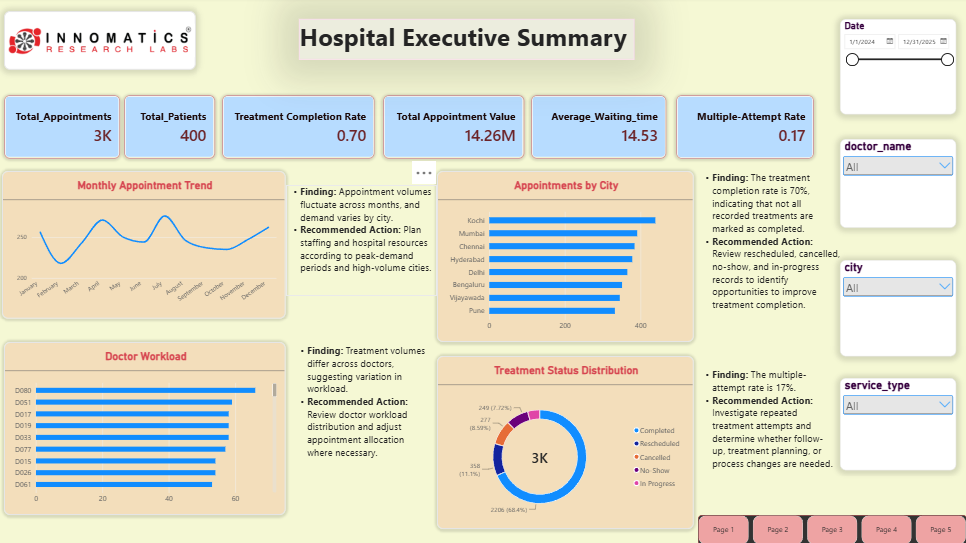

What the dashboard file says about the page in this screenshot:
{"tool":"powerbi","page":{"name":"Page 6","canvas":[1920,1080],"ordinal":5},"visuals":[{"type":"cardVisual","fields":{"Data":["treatments.Total_Appointments"]},"box":[20.6,194.1,229.3,126],"z":0},{"type":"cardVisual","fields":{"Data":["treatments.Total_Patients"]},"box":[256,194.1,179.6,125.9],"z":1000},{"type":"cardVisual","fields":{"Data":["treatments.Treatment Completion Rate"]},"box":[450.1,194.1,301.4,125.9],"z":2000},{"type":"cardVisual","fields":{"Data":["treatments.Total Appointment Value"]},"box":[765.9,194.1,278.7,125.9],"z":3000},{"type":"cardVisual","fields":{"Data":["appointments.Average_Waiting_time"]},"box":[1058.3,194,267.1,126],"z":4000},{"type":"cardVisual","fields":{"Data":["treatments.Multiple-Attempt Rate"]},"box":[1344,194,272,126],"z":5000},{"type":"lineChart","title":"Monthly Appointment Trend","fields":{"Category":["date_table.Date.Variation.Date Hierarchy.Month","date_table.Date.Variation.Date Hierarchy.Day"],"Y":["treatments.Total_Appointments"]},"box":[16.5,342.7,559.5,291.1],"z":6000},{"type":"clusteredBarChart","title":"Appointments by City","fields":{"Category":["patients.city"],"Y":["treatments.Total_Appointments"]},"box":[873.3,342.7,505.8,336.5],"z":7000},{"type":"barChart","title":"Doctor Workload","fields":{"Category":["doctors.doctor_id"],"Y":["treatments.Total_Treatments"]},"box":[20.6,679.2,555.4,340.6],"z":8000},{"type":"donutChart","title":"Treatment Status Distribution","fields":{"Category":["treatments.status"],"Y":["treatments.Total_Appointments"]},"box":[873.3,708.1,505.8,340.6],"z":9000},{"type":"slicer","fields":{"Values":["date_table.Date"]},"box":[1668.1,43.4,229.2,187.9],"z":10000},{"type":"slicer","fields":{"Values":["patients.city"]},"box":[1668.1,518.2,229.2,189.9],"z":11000},{"type":"textbox","box":[600.8,43.4,660.5,79.6],"z":12000},{"type":"slicer","fields":{"Values":["appointments.service_type"]},"box":[1668.1,751.5,229.2,181.7],"z":13000},{"type":"slicer","fields":{"Values":["doctors.doctor_name"]},"box":[1668.1,280.8,229.2,175.5],"z":14000},{"type":"image","box":[20.6,26.8,377.8,115.6],"z":15000},{"type":"textbox","box":[576,369.5,297.3,218.8],"z":16000},{"type":"textbox","box":[1387.4,342.7,280.8,336.5],"z":17000},{"type":"textbox","box":[450,0,151,150],"z":18000},{"type":"textbox","box":[588.4,683.4,272.5,336.5],"z":19000},{"type":"textbox","box":[1387.4,730.8,266.3,317.9],"z":20000},{"type":"pageNavigator","box":[1388,1020.6,530.2,59.7],"z":21000}]}

Visuals, with their boxes in screenshot pixels (x1, y1, x2, y2), scaled from the page's 1920x1080 canvas onto the 966x543 screenshot:
cardVisual - treatments.Total_Appointments: BBox(10, 98, 126, 161)
cardVisual - treatments.Total_Patients: BBox(129, 98, 219, 161)
cardVisual - treatments.Treatment Completion Rate: BBox(226, 98, 378, 161)
cardVisual - treatments.Total Appointment Value: BBox(385, 98, 526, 161)
cardVisual - appointments.Average_Waiting_time: BBox(532, 98, 667, 161)
cardVisual - treatments.Multiple-Attempt Rate: BBox(676, 98, 813, 161)
"Monthly Appointment Trend" lineChart: BBox(8, 172, 290, 319)
"Appointments by City" clusteredBarChart: BBox(439, 172, 694, 341)
"Doctor Workload" barChart: BBox(10, 341, 290, 513)
"Treatment Status Distribution" donutChart: BBox(439, 356, 694, 527)
slicer - date_table.Date: BBox(839, 22, 955, 116)
slicer - patients.city: BBox(839, 261, 955, 356)
textbox: BBox(302, 22, 635, 62)
slicer - appointments.service_type: BBox(839, 378, 955, 469)
slicer - doctors.doctor_name: BBox(839, 141, 955, 229)
image: BBox(10, 13, 200, 72)
textbox: BBox(290, 186, 439, 296)
textbox: BBox(698, 172, 839, 341)
textbox: BBox(226, 0, 302, 75)
textbox: BBox(296, 344, 433, 513)
textbox: BBox(698, 367, 832, 527)
pageNavigator: BBox(698, 513, 965, 542)
